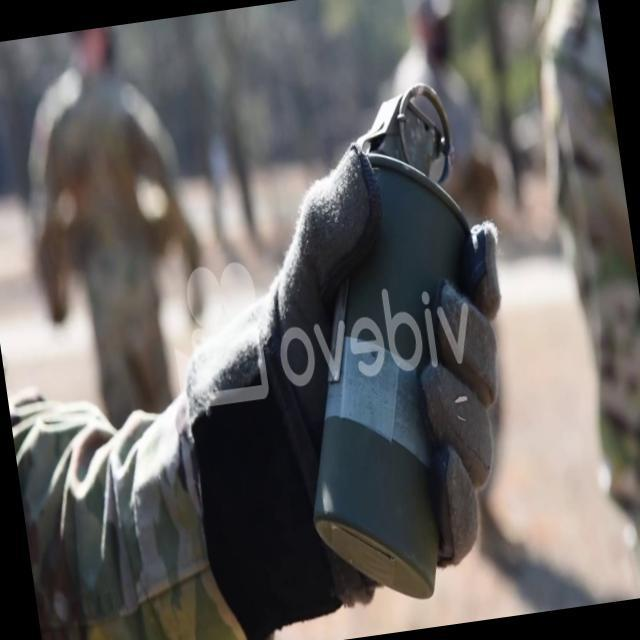grenade: (258, 75, 531, 614)
